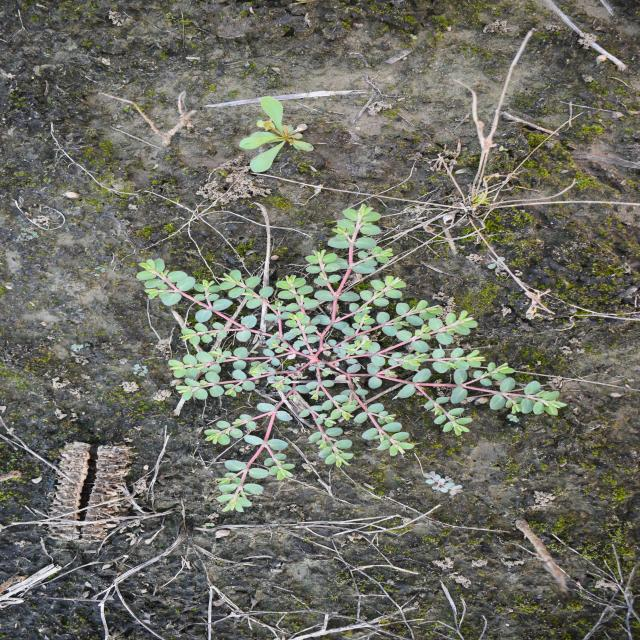Carpetweed: (236, 95, 317, 174)
SpottedSpurge: (133, 202, 570, 514)
